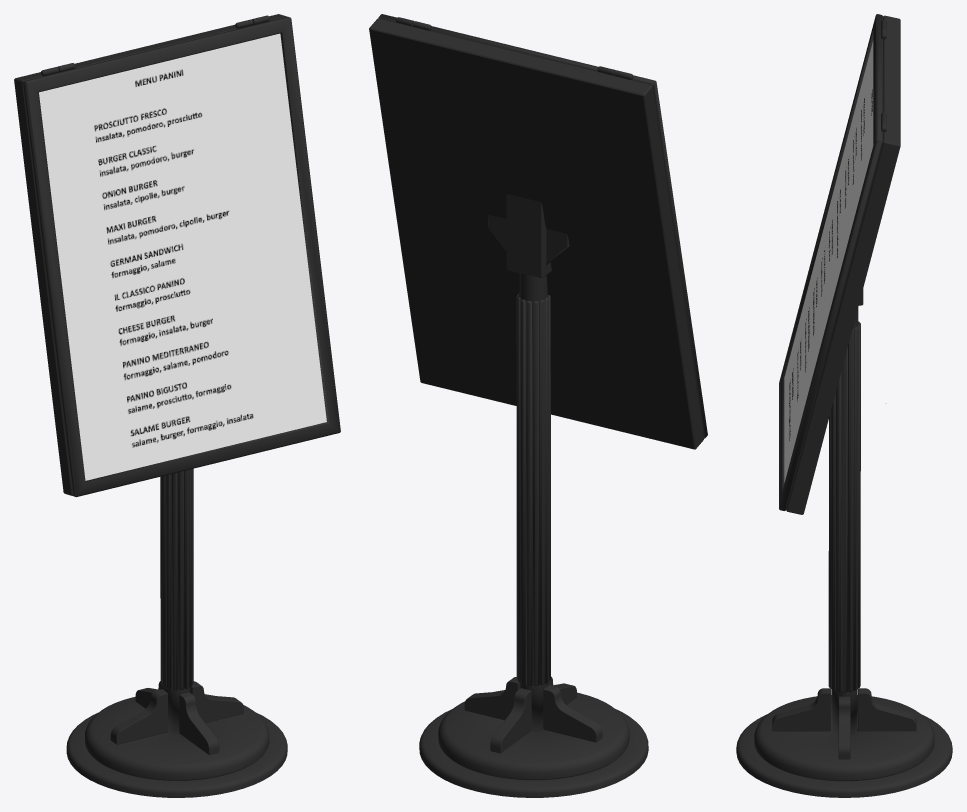
Rendered from menuPanini.fbx.
3 views of the same model, side by side, from view 1: azimuth 30°, elevation 25°; view 2: azimuth 150°, elevation 25°; view 3: azimuth 270°, elevation 25° (orthographic). The views are drawn at different scales.
Visible parts, largest first — view 1: Menu.002, Menu; view 2: Menu.002, Menu; view 3: Menu, Menu.002.
Part boxes in pixels (box(x1,y1,x2,y2)): Menu.002: box(14, 14, 340, 497); Menu: box(66, 468, 287, 797); Menu.002: box(369, 14, 707, 449); Menu: box(419, 194, 648, 797); Menu: box(736, 289, 952, 797); Menu.002: box(779, 14, 900, 514).
Bounding box in the file's own units: 5000 × 12465 × 3600.
